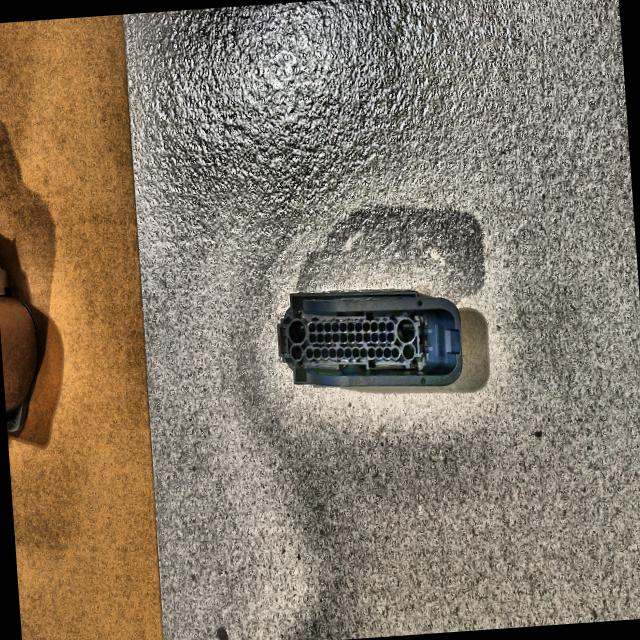P38: (277, 288, 462, 385)
